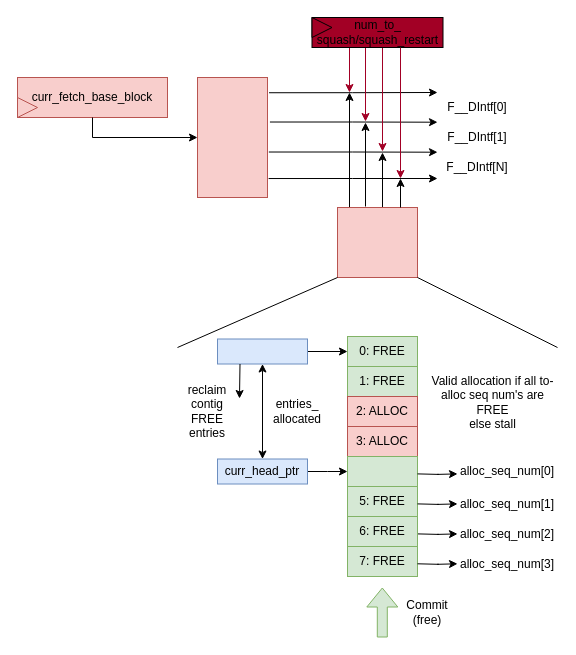
The diagram is 576 pixels wide and 655 high, and some of its shapes have lost their labels. Each missing label, with the centre of its shape:
"4: FREE" goes at point (382, 471).
"curr_tail_ptr" goes at point (262, 351).
"imem" goes at point (232, 137).
"seq_num_gen" goes at point (377, 242).
